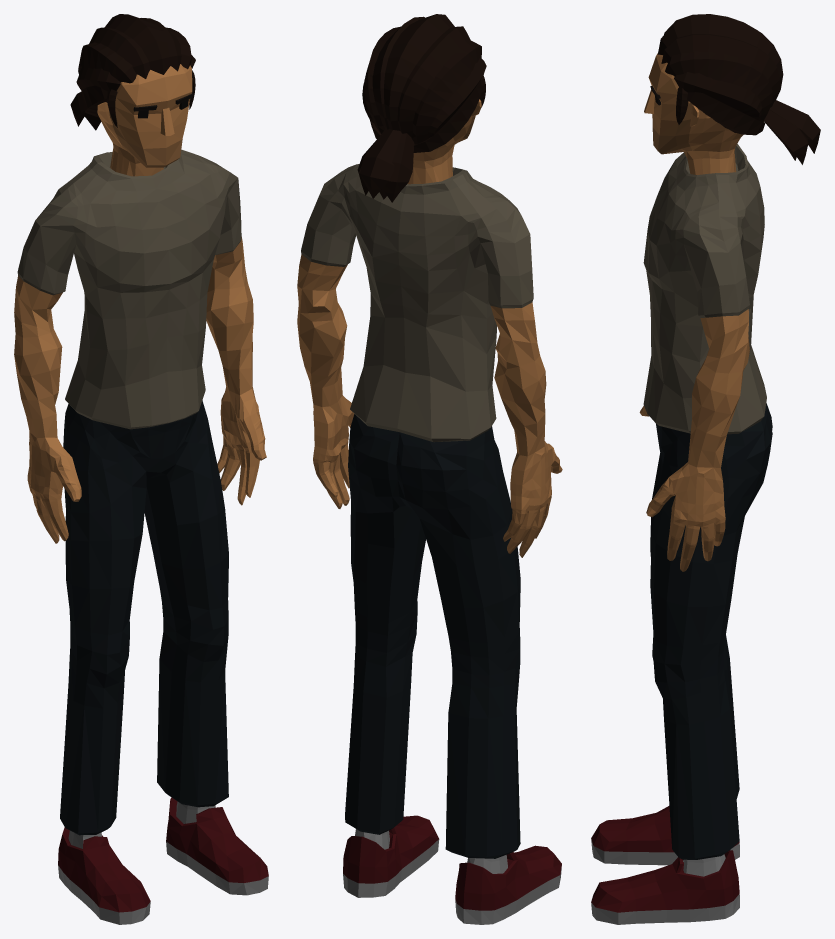
The model's file is casual.obj.
3 renders of one model, left to right at view 1: azimuth 30°, elevation 25°; view 2: azimuth 150°, elevation 25°; view 3: azimuth 270°, elevation 25°, orthographic. The views are drawn at different scales.
Visible parts, largest first — view 1: part_9, part_1, part_0, part_2, part_7, part_4, part_3, part_5; view 2: part_9, part_1, part_0, part_7, part_2, part_3, part_4; view 3: part_9, part_1, part_7, part_0, part_2, part_4, part_3, part_5.
Boxes of the visible parts, <box> form: part_9: <box>60,400,228,835</box>; part_1: <box>17,149,241,429</box>; part_0: <box>14,237,266,543</box>; part_2: <box>58,797,268,912</box>; part_7: <box>70,14,195,130</box>; part_4: <box>97,64,192,176</box>; part_3: <box>58,801,268,924</box>; part_5: <box>107,102,182,167</box>; part_9: <box>345,414,520,858</box>; part_1: <box>301,164,533,442</box>; part_0: <box>297,254,562,557</box>; part_7: <box>357,14,486,202</box>; part_2: <box>343,815,561,910</box>; part_3: <box>343,829,561,924</box>; part_4: <box>407,99,481,184</box>; part_9: <box>650,403,772,859</box>; part_1: <box>643,144,766,434</box>; part_7: <box>658,14,820,164</box>; part_0: <box>639,309,749,571</box>; part_2: <box>591,806,739,912</box>; part_4: <box>644,53,743,174</box>; part_3: <box>591,838,739,924</box>; part_5: <box>652,103,693,154</box>.
Bounding box in the file's own units: 0.5299 × 1.85 × 0.4429.
